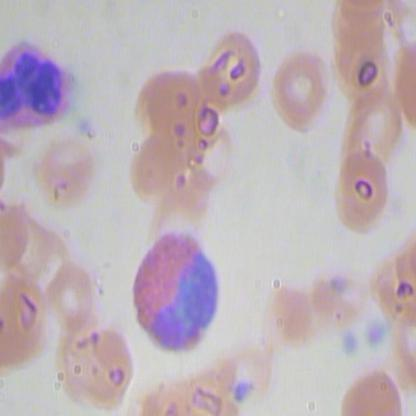Platelets: (364, 318, 388, 349), (338, 327, 361, 358), (326, 269, 349, 300), (230, 376, 252, 407), (74, 109, 98, 136)
RBC: (44, 321, 136, 410), (32, 123, 102, 216), (134, 51, 204, 144), (196, 20, 266, 113), (328, 26, 398, 119), (266, 47, 336, 139), (110, 126, 180, 218), (327, 146, 397, 238), (338, 82, 408, 174), (252, 277, 314, 357), (1, 280, 51, 377), (45, 250, 100, 332), (335, 359, 405, 415)
WBC: (127, 223, 224, 356), (0, 35, 78, 134)
